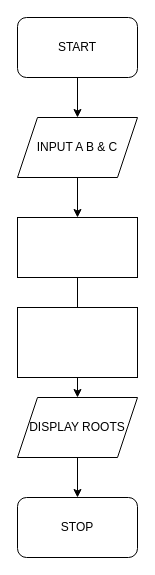
This 155x575 diagram has some shape labels left out. Here are the shapes that lost their labels. From the top down, the centre of each, then its label:
At (x=77, y=247): "x=(-b±√(b^2-4ac))/2a".
At (x=77, y=342): "ADD VALUE OF X TO QUADRATIC EQUATION AND CALCULATE THE ROOTS".
